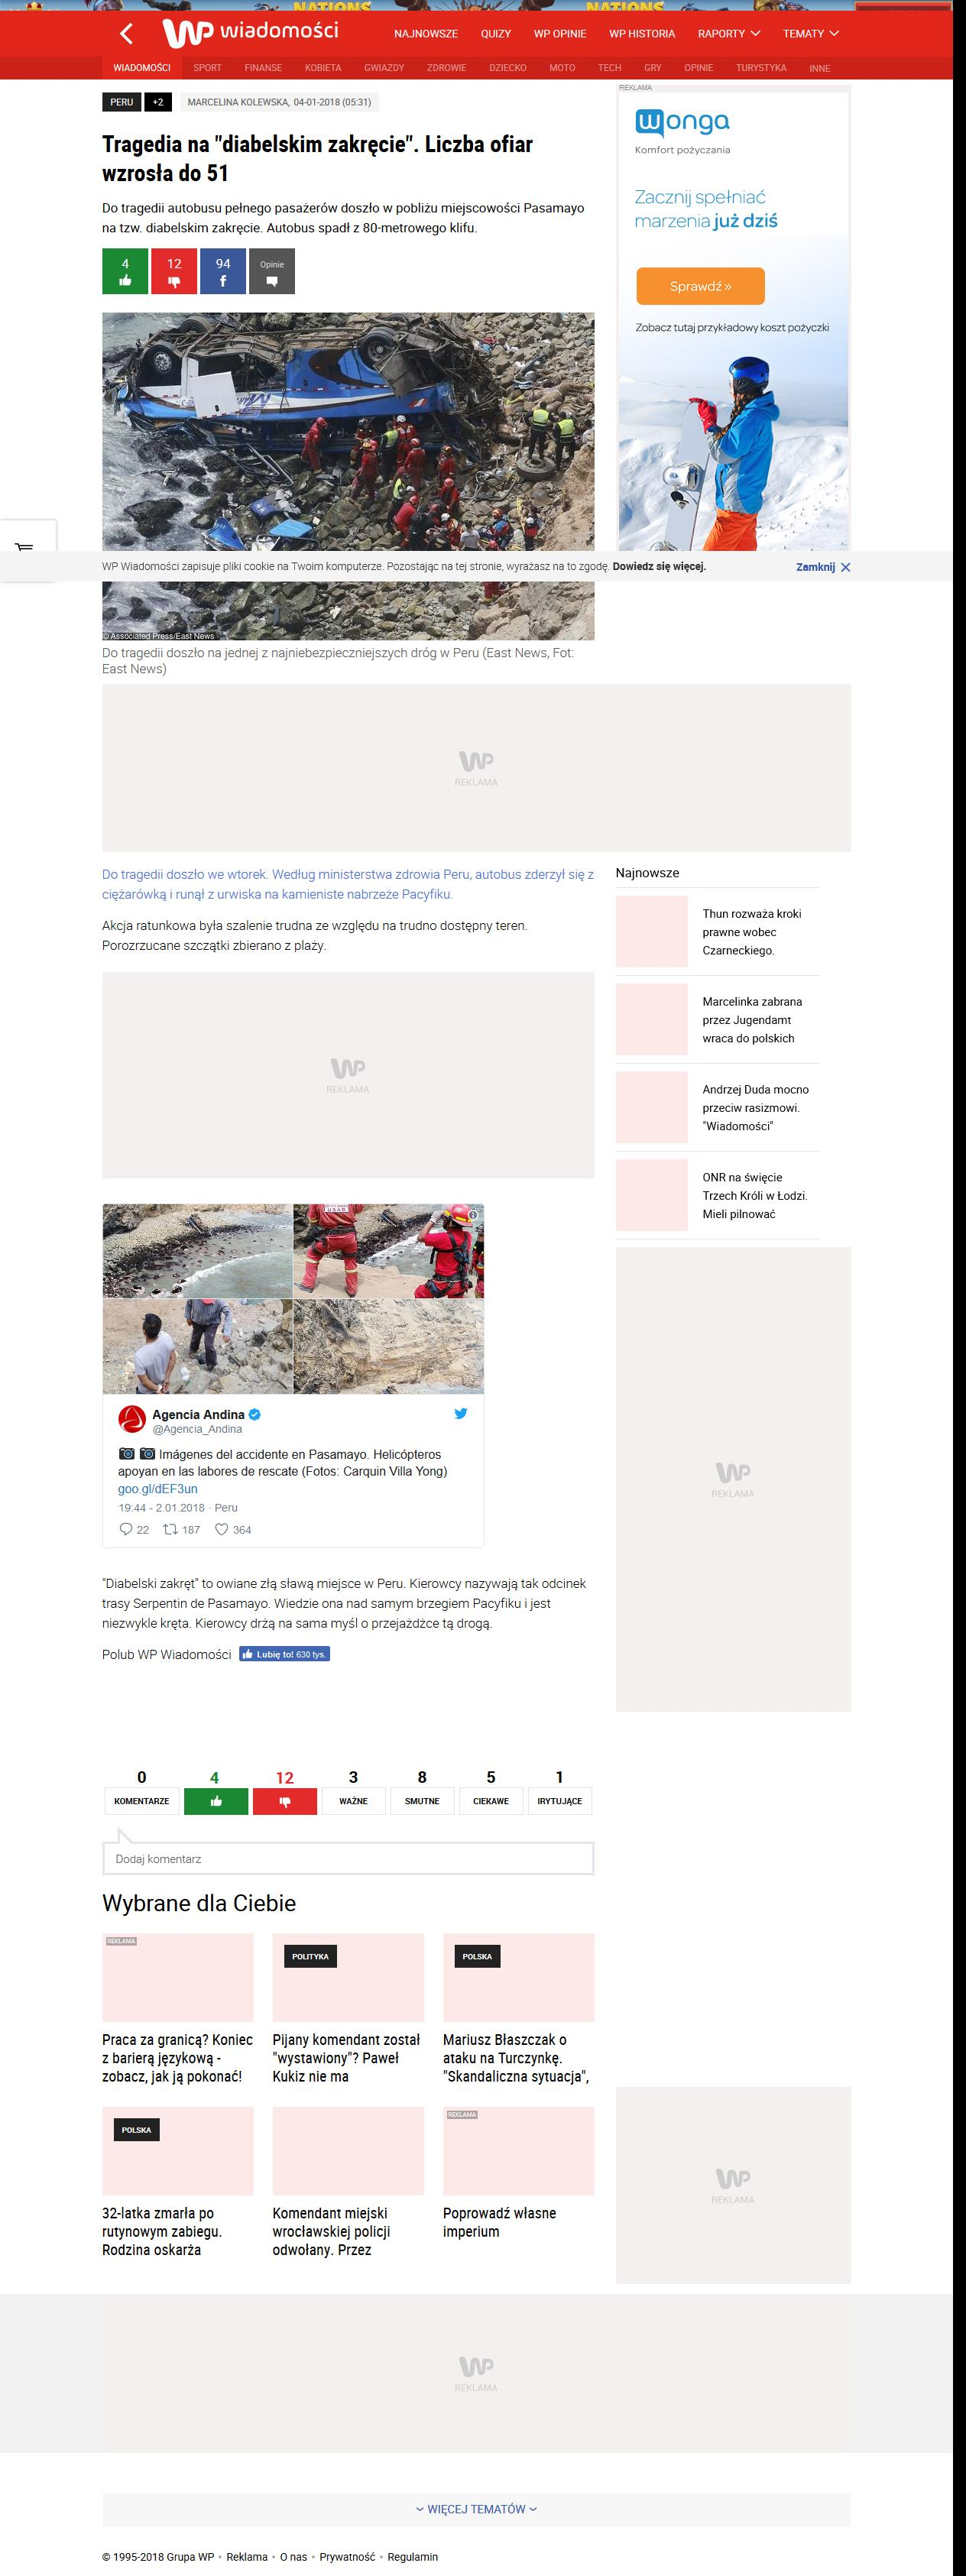title: (100, 133, 534, 182)
